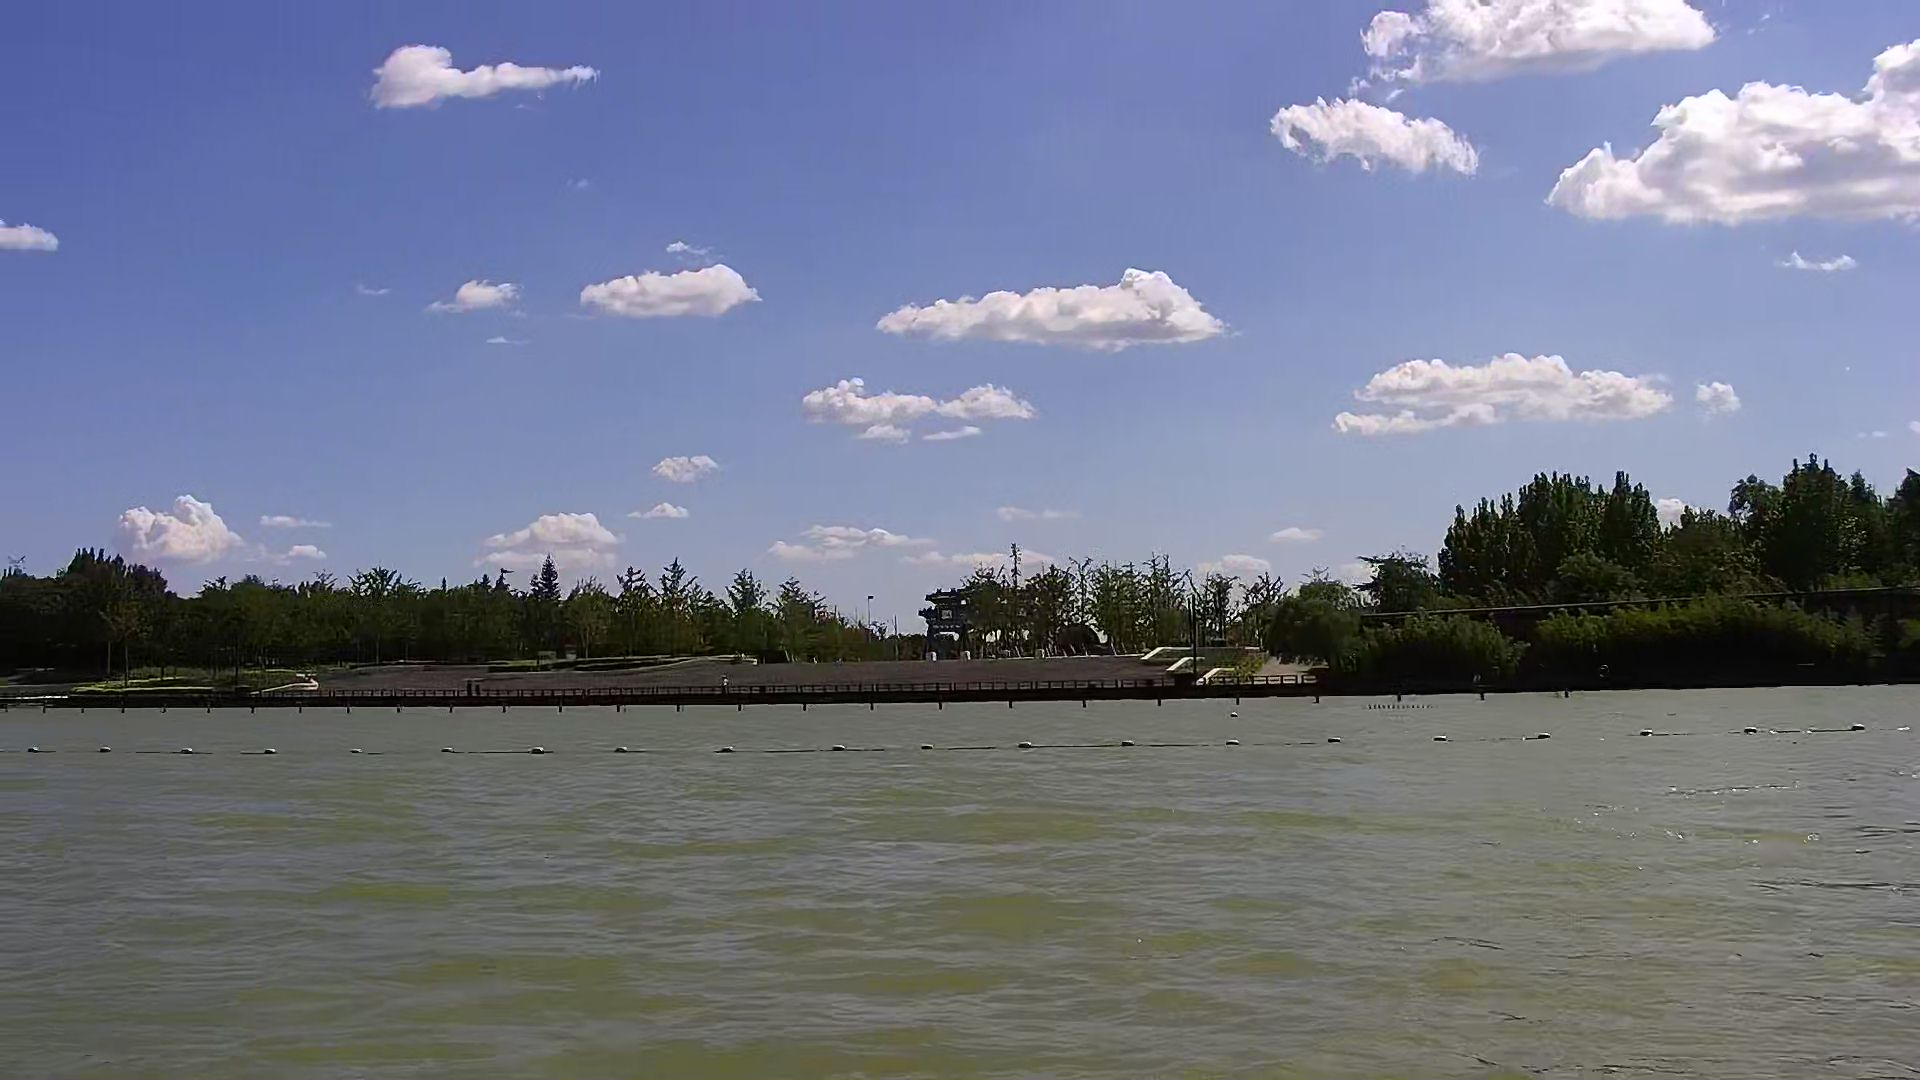ball: (824, 738, 858, 764), (1009, 731, 1042, 756), (522, 741, 553, 765), (1528, 725, 1559, 746), (1849, 716, 1874, 741), (94, 738, 117, 765), (609, 738, 633, 762), (258, 742, 285, 762), (175, 738, 196, 761), (713, 736, 735, 758), (22, 738, 44, 760)
harbor: (1, 657, 1316, 702)
